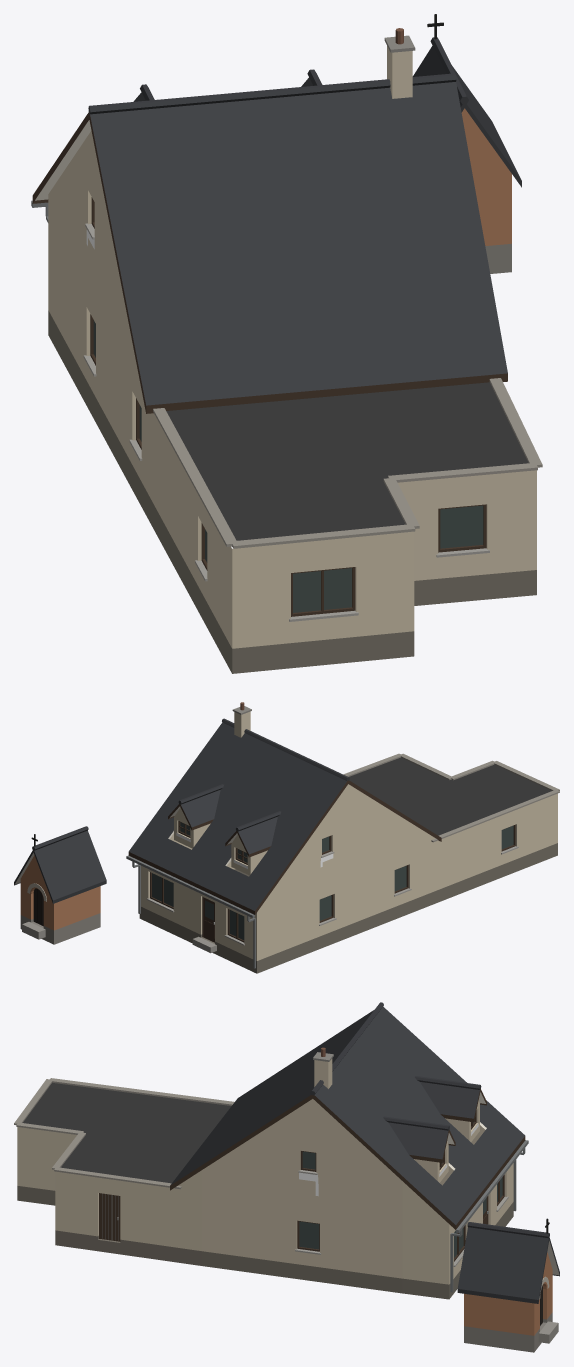
Rendered from vh_chapel_house.glb.
3 renders of one model, top to bottom at view 1: azimuth 30°, elevation 25°; view 2: azimuth 150°, elevation 25°; view 3: azimuth 270°, elevation 25°, orthographic. The views are drawn at different scales.
Parts seen in each view (by area): view 1: vh_roof, vh_brick, vh_stone, vh_trim, vh_glass, vh_chapel, vh_frames_small; view 2: vh_brick, vh_roof, vh_stone, vh_trim, vh_chapel, vh_frames_small, vh_glass; view 3: vh_brick, vh_roof, vh_stone, vh_trim, vh_chapel, vh_frames_small, vh_glass.
Boxes of the visible parts, x1,y1,x2,y2 form: vh_roof: [88, 37, 521, 405]; vh_brick: [48, 46, 536, 648]; vh_stone: [83, 28, 542, 621]; vh_trim: [32, 104, 536, 673]; vh_glass: [93, 320, 483, 612]; vh_chapel: [461, 108, 511, 245]; vh_frames_small: [31, 197, 486, 616]; vh_brick: [141, 711, 557, 960]; vh_roof: [32, 718, 349, 910]; vh_stone: [20, 702, 559, 953]; vh_trim: [14, 780, 557, 973]; vh_chapel: [20, 855, 100, 930]; vh_frames_small: [37, 821, 515, 968]; vh_glass: [152, 822, 513, 940]; vh_brick: [17, 1058, 513, 1284]; vh_roof: [170, 1002, 549, 1299]; vh_stone: [14, 1047, 558, 1352]; vh_trim: [17, 1088, 559, 1325]; vh_chapel: [464, 1252, 552, 1335]; vh_frames_small: [99, 1110, 540, 1323]; vh_glass: [299, 1121, 502, 1257].
Bounding box in the file's own units: 18.76 × 10.19 × 22.14.
